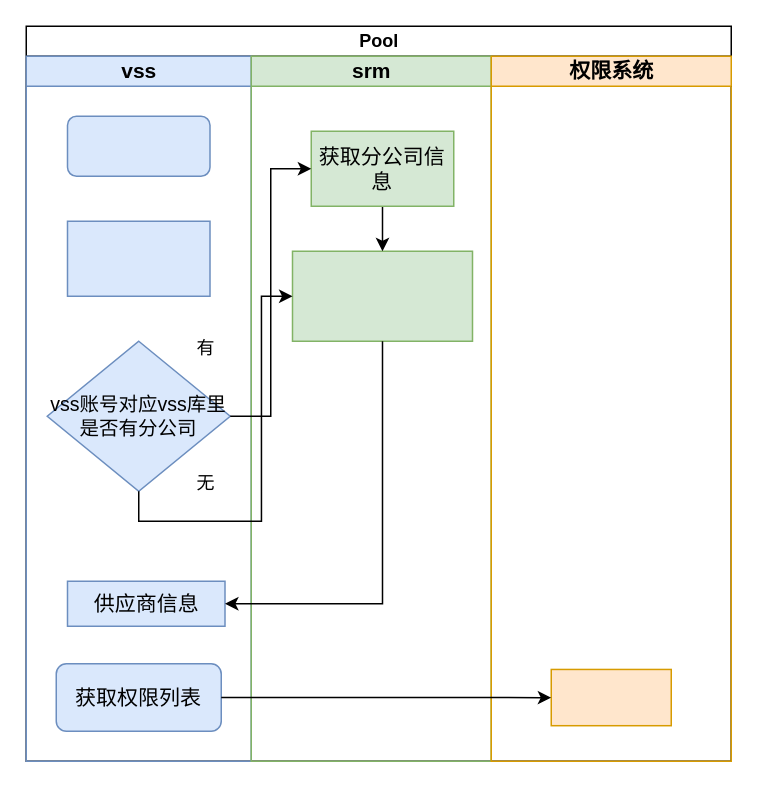
This 758x788 diagram has some shape labels left out. Each missing label, with the centre of its shape:
"供应商登录" belongs at [138,145].
"权限列表" belongs at [610,697].
"获取供应商信息" belongs at [381,295].
"身份校验/ 参数校验" belongs at [138,258].
